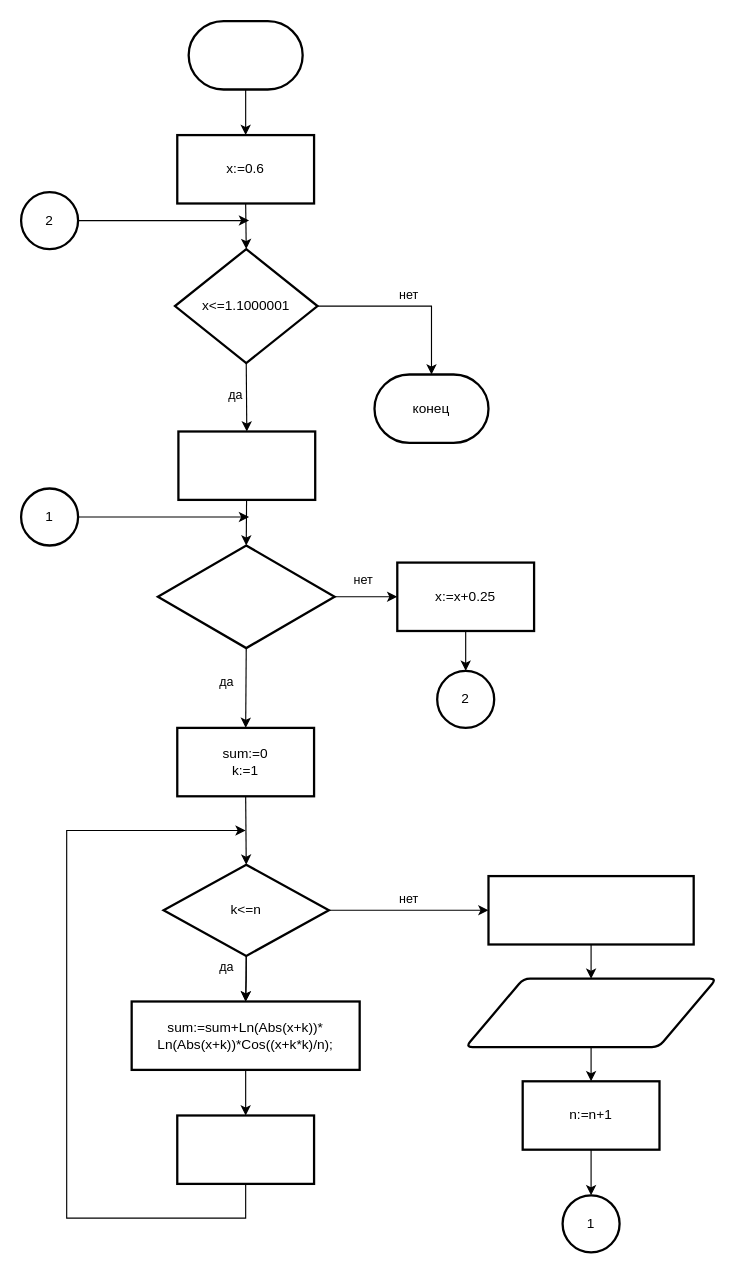
Some shapes in this 736 by 1272 pixel diagram are drawn without their labels. The shapes that lost their labels are listed below. From the top down, each one's centre as x and y in pixels, then its label:
(245,54): начало
(246,465): n:=10
(245,596): n<=15
(590,909): sum:=sum/3*Power(2,x/2);
(590,1012): Вывод x, n, sum
(245,1149): k:=k+1
